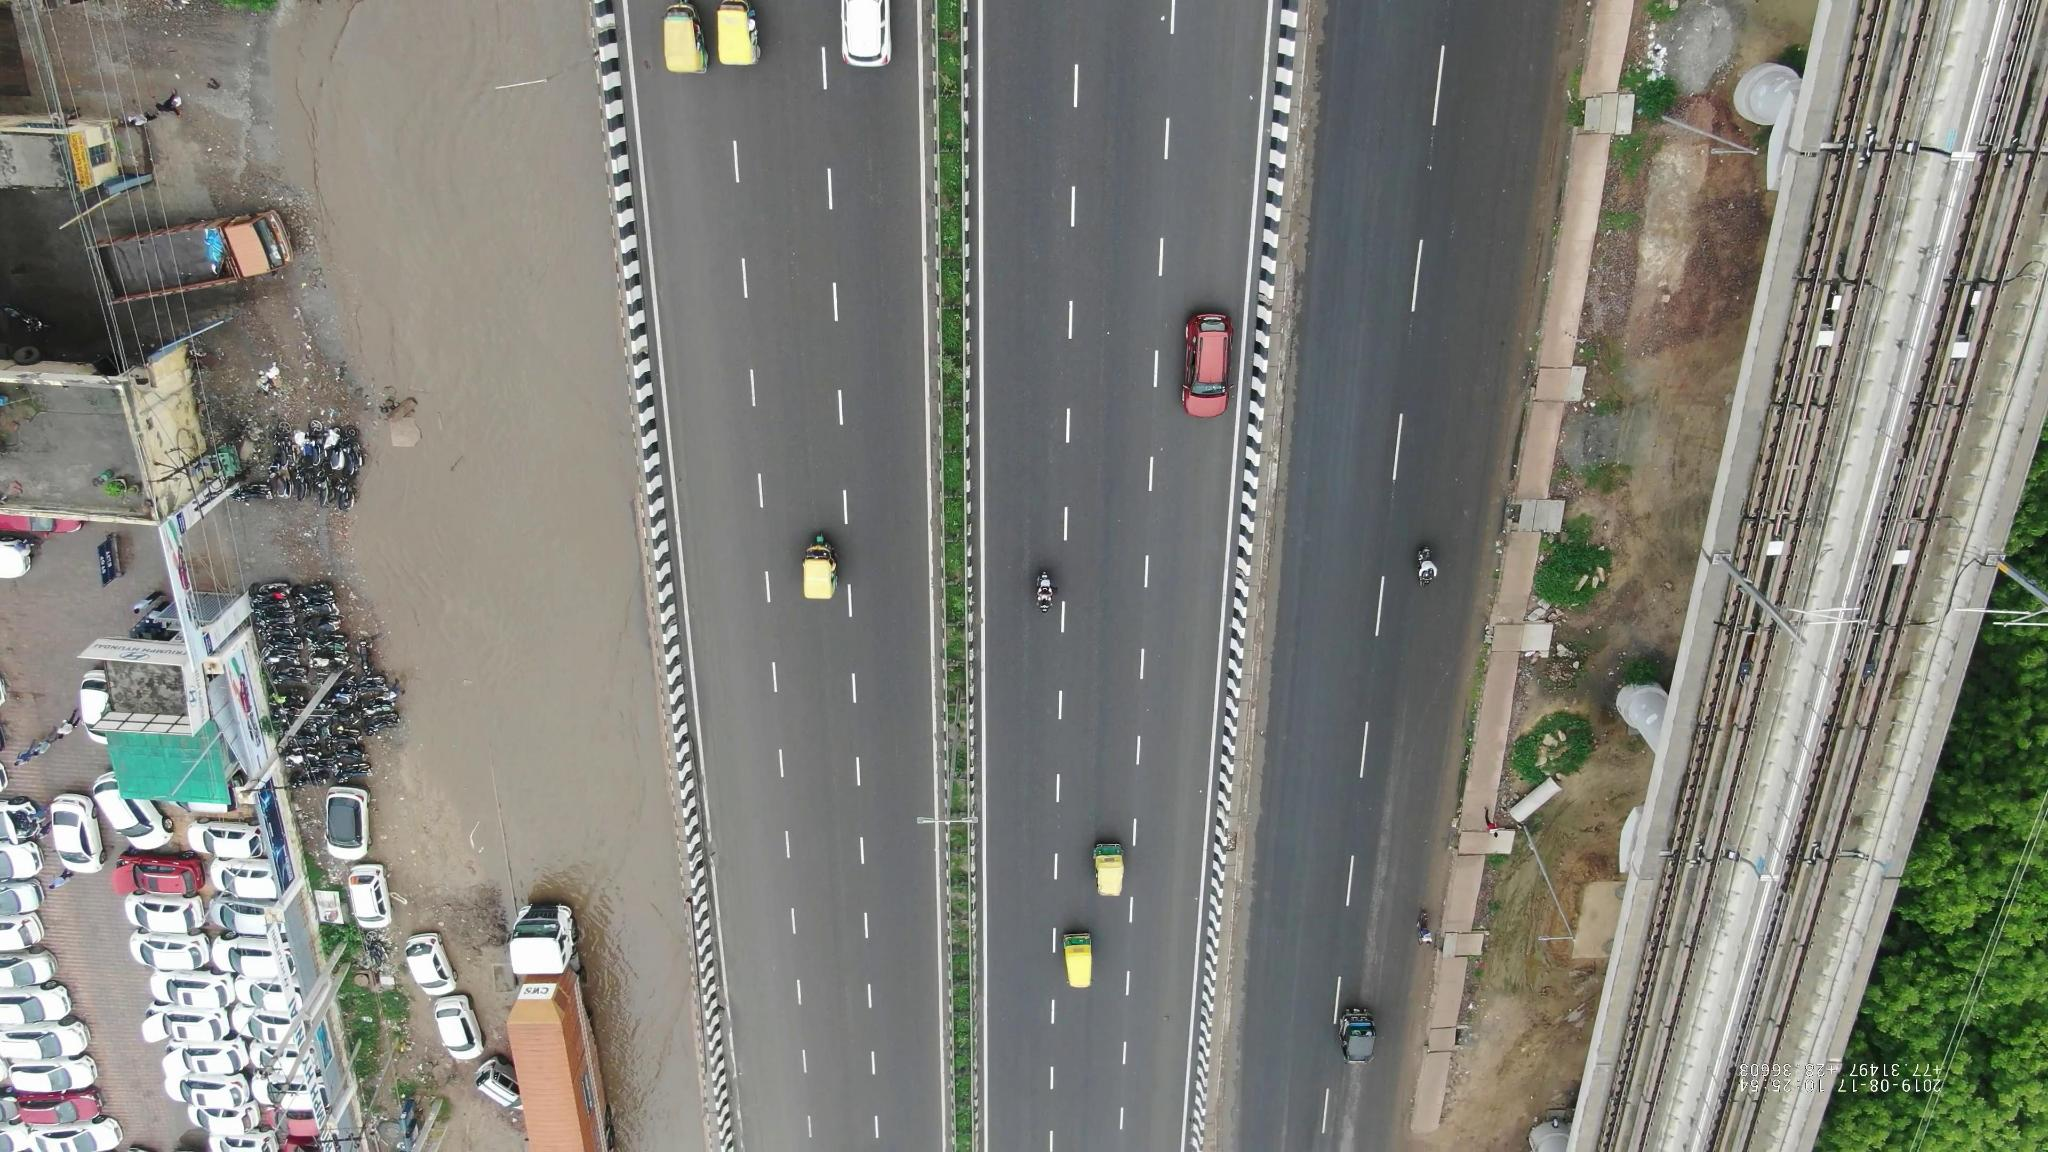Waterlogging: (243, 13, 639, 370), (302, 378, 675, 717), (388, 724, 698, 959), (554, 966, 712, 1148)
